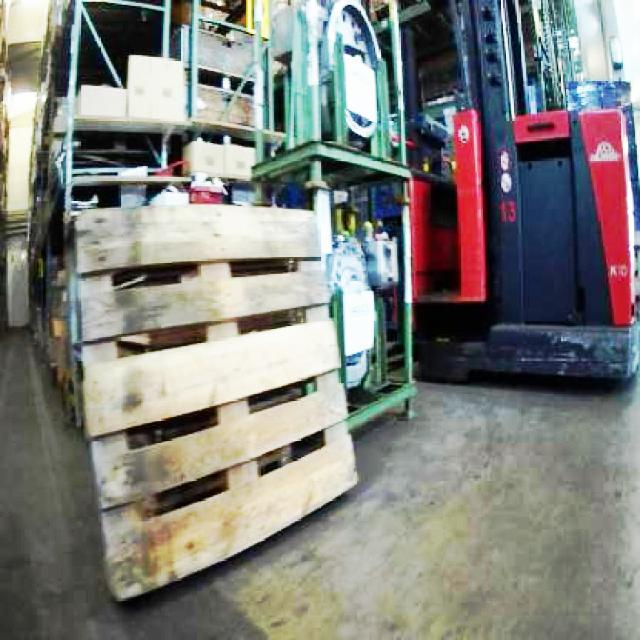ground: (0, 314, 638, 638)
pallet: (62, 200, 360, 602)
